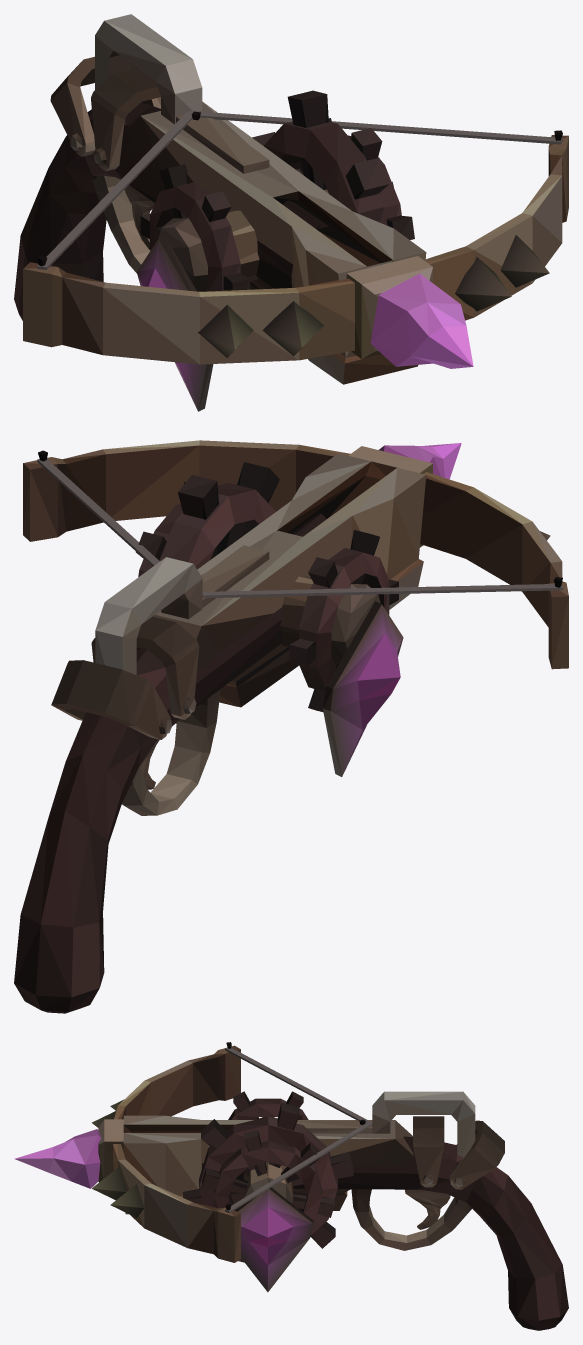
File: weapon_crossbow_bronze_3.fbx
3 views of the same model, one above another, from view 1: azimuth 30°, elevation 25°; view 2: azimuth 150°, elevation 25°; view 3: azimuth 270°, elevation 25° (orthographic). The views are drawn at different scales.
Parts seen in each view (by area): view 1: weapon_crossbow_bronze_3; view 2: weapon_crossbow_bronze_3; view 3: weapon_crossbow_bronze_3.
Part boxes in pixels (x1,y1,x2,y2): weapon_crossbow_bronze_3: (14, 14, 568, 411); weapon_crossbow_bronze_3: (14, 440, 568, 1013); weapon_crossbow_bronze_3: (14, 1042, 568, 1330).
Bounding box in the file's own units: 0.8673 × 0.5559 × 1.19.
